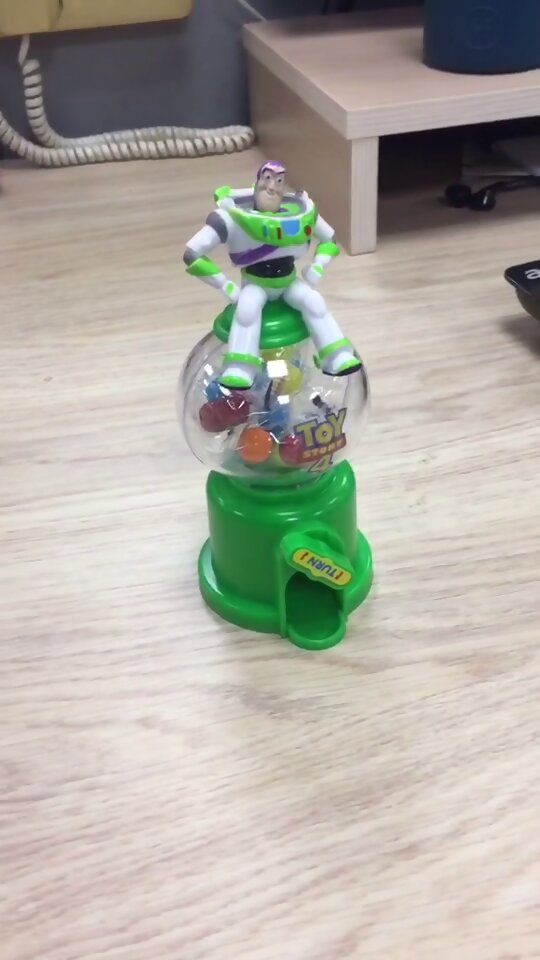buzz: (170, 150, 382, 651)
